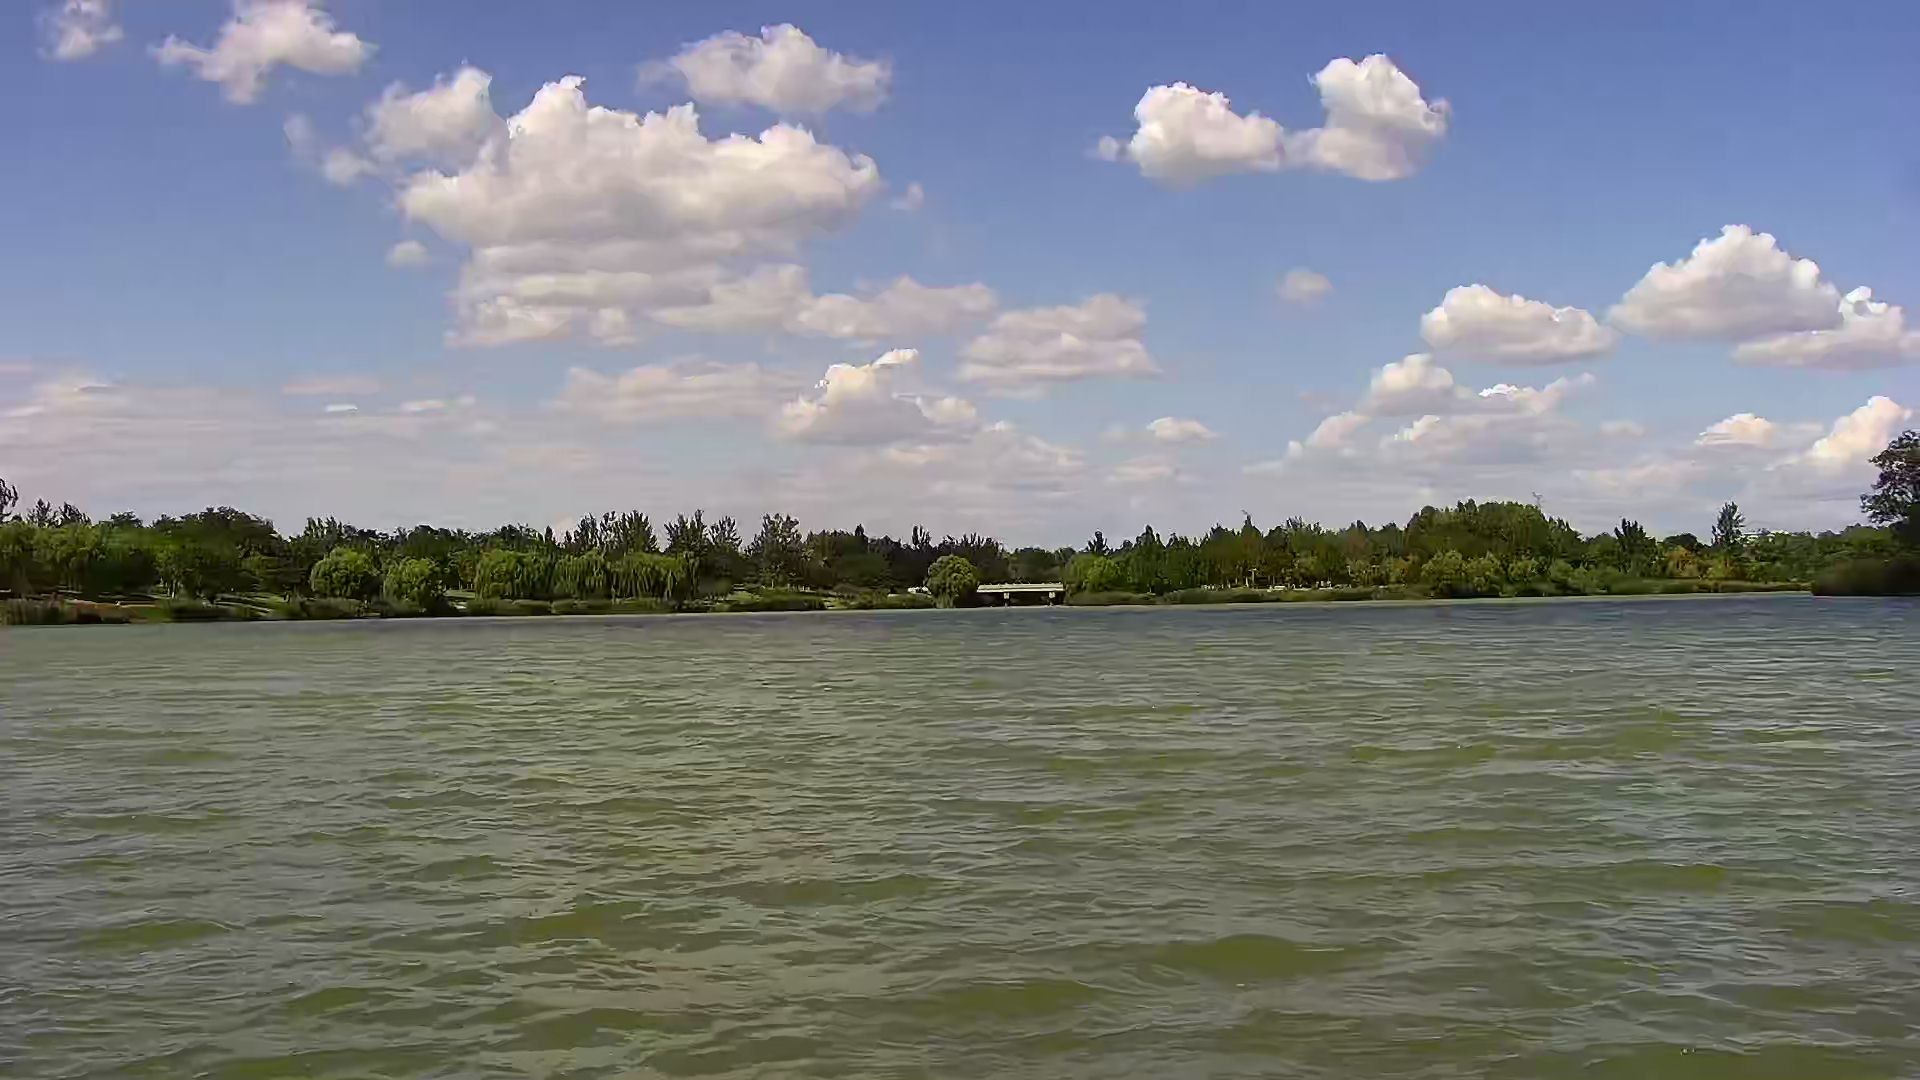bridge: (977, 578, 1064, 611)
